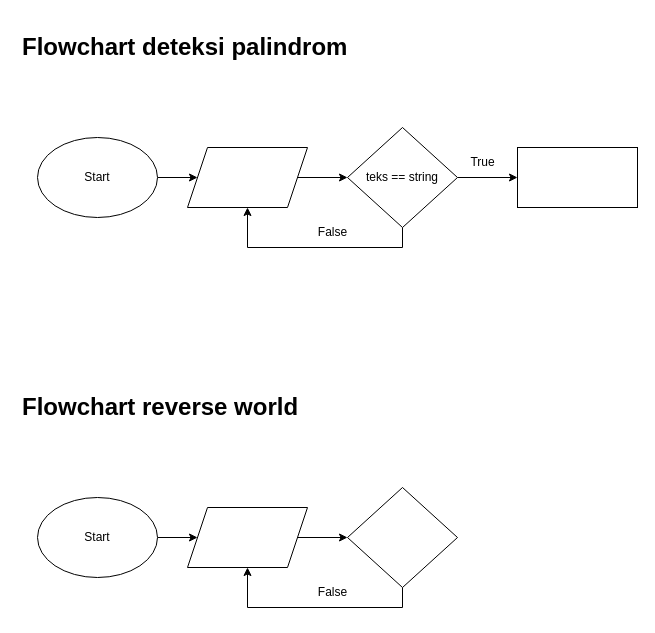
Some shapes in this 655 by 633 pixel diagram are drawn without their labels. The shapes that lost their labels are listed below. From the top down, each one's box as (x1, y1, x2, y2) in pixels, then its label:
(186, 146, 308, 208): Input teks
(516, 146, 638, 208): L = 6 * s * s
